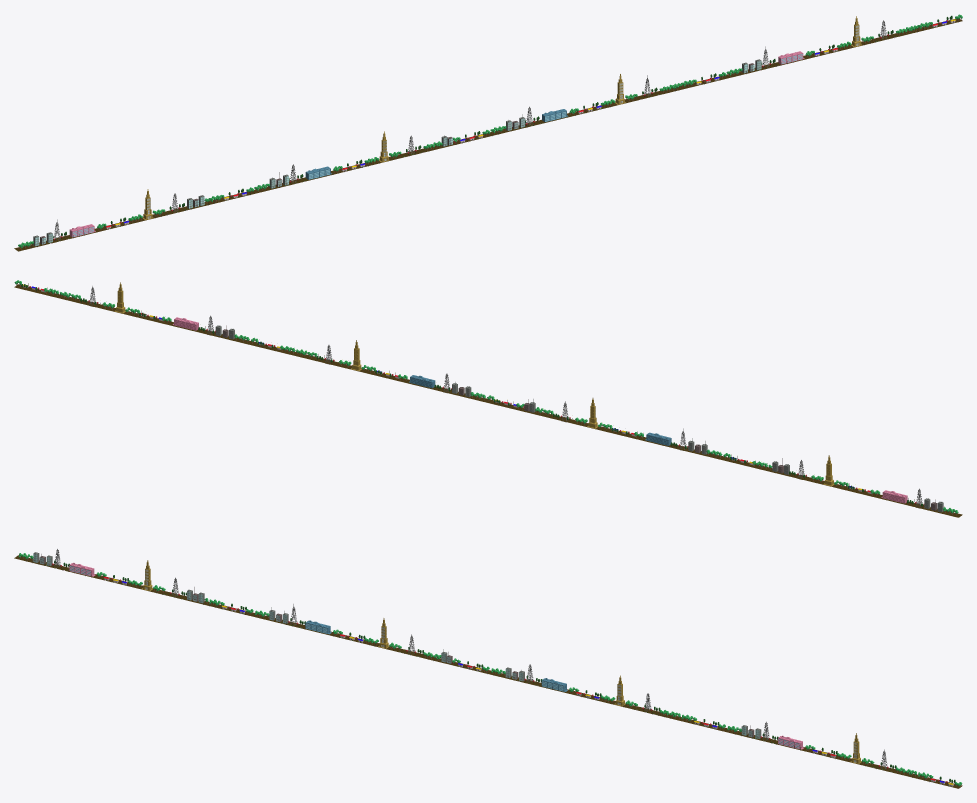
Rendered from city_map_02.fbx.
3 renders of one model, top to bottom at view 1: azimuth 30°, elevation 25°; view 2: azimuth 150°, elevation 25°; view 3: azimuth 330°, elevation 25°, orthographic.
Parts seen in each view (by area): view 1: Icosphere.001; view 2: Icosphere.001; view 3: Icosphere.001.
Part boxes in pixels (bbox=[...]): Icosphere.001: bbox=[14, 14, 962, 251]; Icosphere.001: bbox=[14, 280, 962, 517]; Icosphere.001: bbox=[14, 549, 962, 788].
Bounding box in the file's own units: 128046 × 3820 × 1106.
